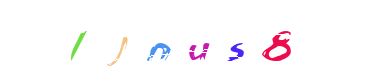1: (37, 0, 117, 80)
8: (238, 0, 318, 80)
J: (142, 0, 222, 80)
N: (149, 0, 229, 80)
S: (166, 0, 246, 80)
U: (153, 0, 233, 80)
